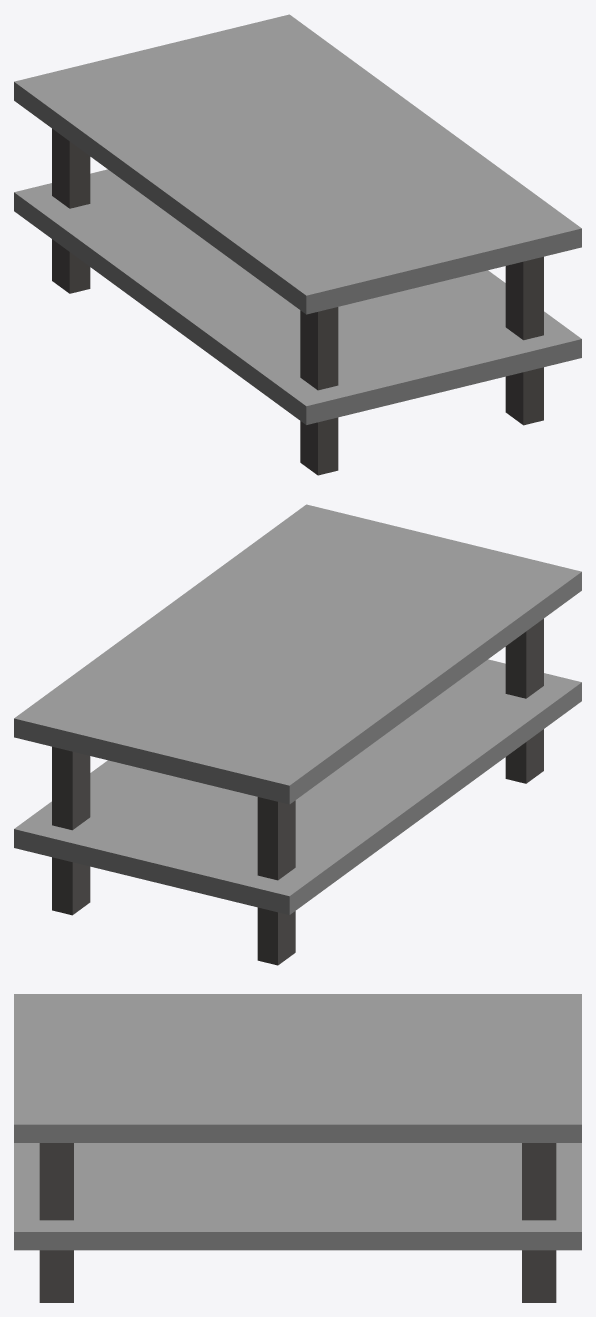
Rendered from SO_Coffeetable_01.fbx.
3 views of the same model, one above another, from view 1: azimuth 30°, elevation 25°; view 2: azimuth 150°, elevation 25°; view 3: azimuth 270°, elevation 25° (orthographic). The views are drawn at different scales.
Parts seen in each view (by area): view 1: SO_Coffeetable_01; view 2: SO_Coffeetable_01; view 3: SO_Coffeetable_01.
Part boxes in pixels (box(x1,y1,x2,y2)): SO_Coffeetable_01: box(14, 14, 581, 475); SO_Coffeetable_01: box(14, 504, 581, 965); SO_Coffeetable_01: box(14, 994, 581, 1302).
Bounding box in the file's own units: 1.22 × 0.8274 × 2.24.
